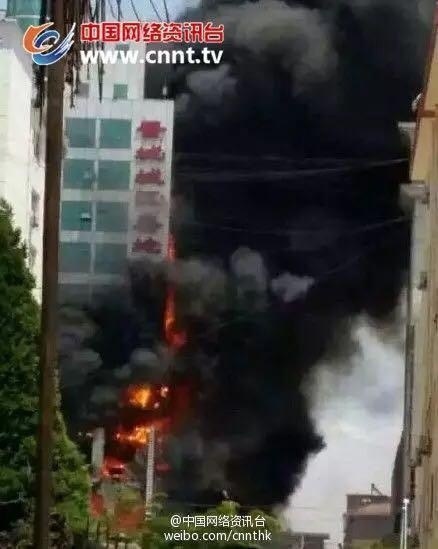fire: (112, 383, 171, 444)
